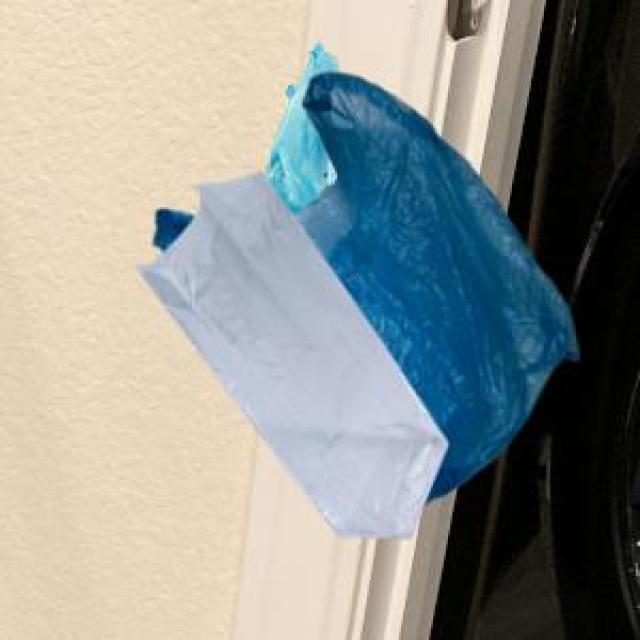waste: (142, 45, 579, 537)
